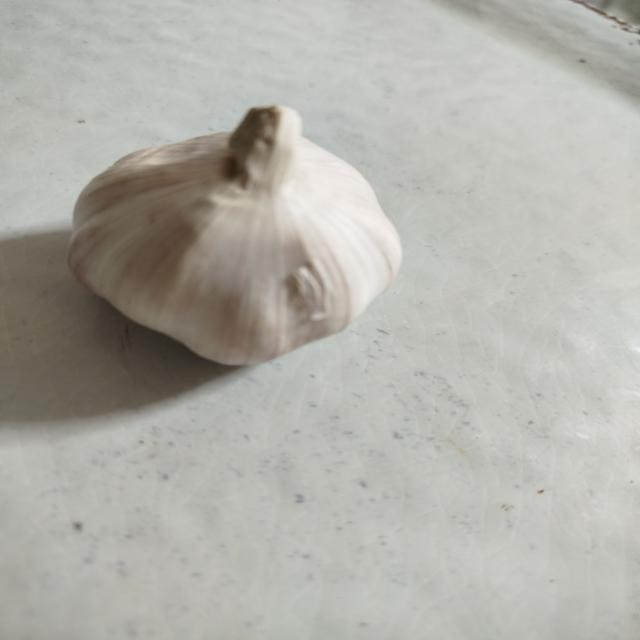garlic: (66, 104, 403, 368)
